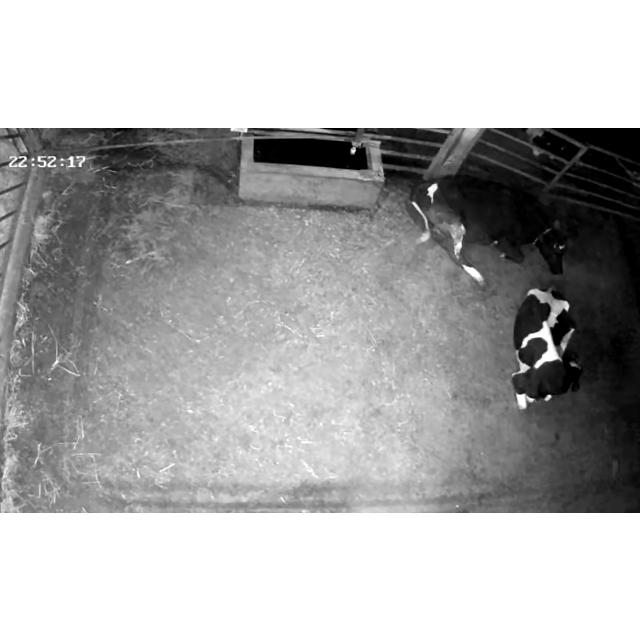lay: (400, 160, 590, 292), (498, 273, 604, 422)
